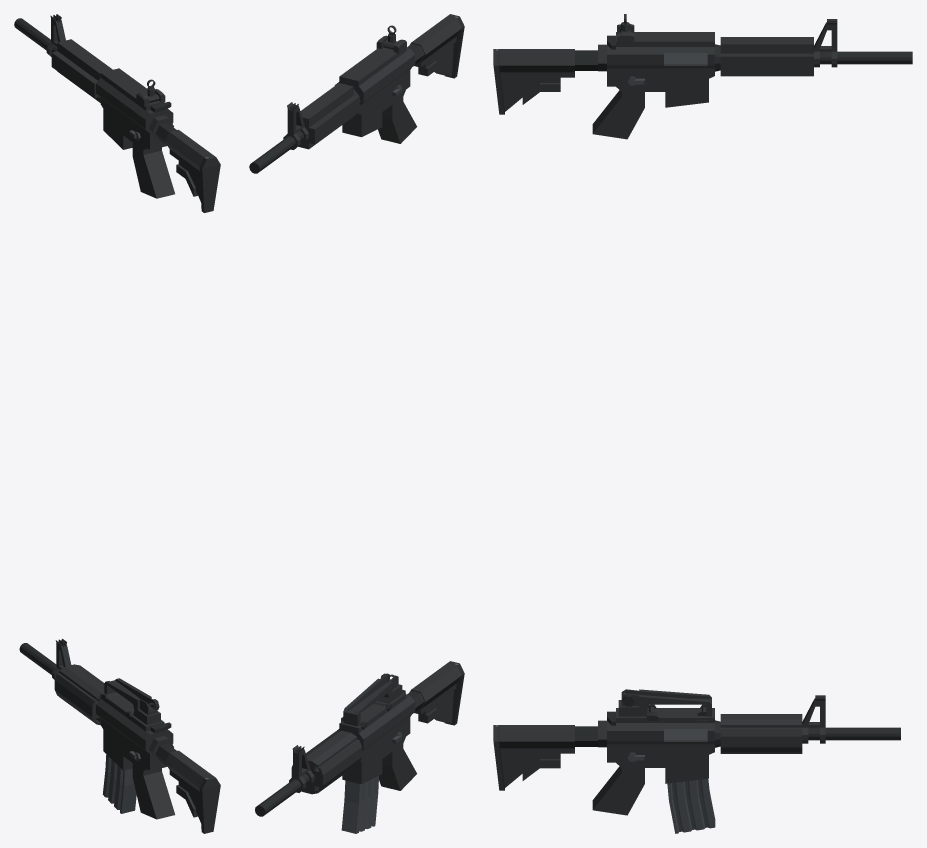
The picture shows the model from 3 angles, left to right: view 1: azimuth 30°, elevation 25°; view 2: azimuth 150°, elevation 25°; view 3: azimuth 270°, elevation 25°; orthographic projection. The views are drawn at different scales.
Visible parts, largest first — view 1: M4_0, M4A1_0, M4_Carrier_0, STANAG_30rnd, M4_Sight; view 2: M4_0, M4A1_0, STANAG_30rnd, M4_Carrier_0, M4_Sight; view 3: M4_0, M4A1_0, STANAG_30rnd, M4_Carrier_0.
Boxes of the visible parts, x1,y1,x2,y2 form: M4_0: [14, 14, 220, 212]; M4A1_0: [19, 638, 220, 833]; M4_Carrier_0: [102, 678, 160, 725]; STANAG_30rnd: [102, 754, 136, 813]; M4_Sight: [136, 79, 165, 106]; M4_0: [249, 14, 464, 173]; M4A1_0: [255, 661, 464, 816]; STANAG_30rnd: [341, 776, 378, 833]; M4_Carrier_0: [341, 673, 402, 729]; M4_Sight: [376, 25, 406, 54]; M4_0: [493, 19, 912, 139]; M4A1_0: [493, 695, 900, 815]; STANAG_30rnd: [667, 778, 715, 833]; M4_Carrier_0: [618, 689, 711, 720].
Bounding box in the file's own units: 325 × 7723 × 3595.
